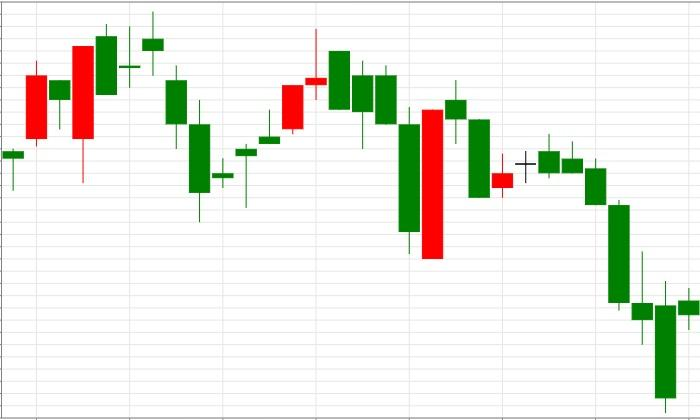bullish_engulfing_rise: (305, 28, 443, 259)
